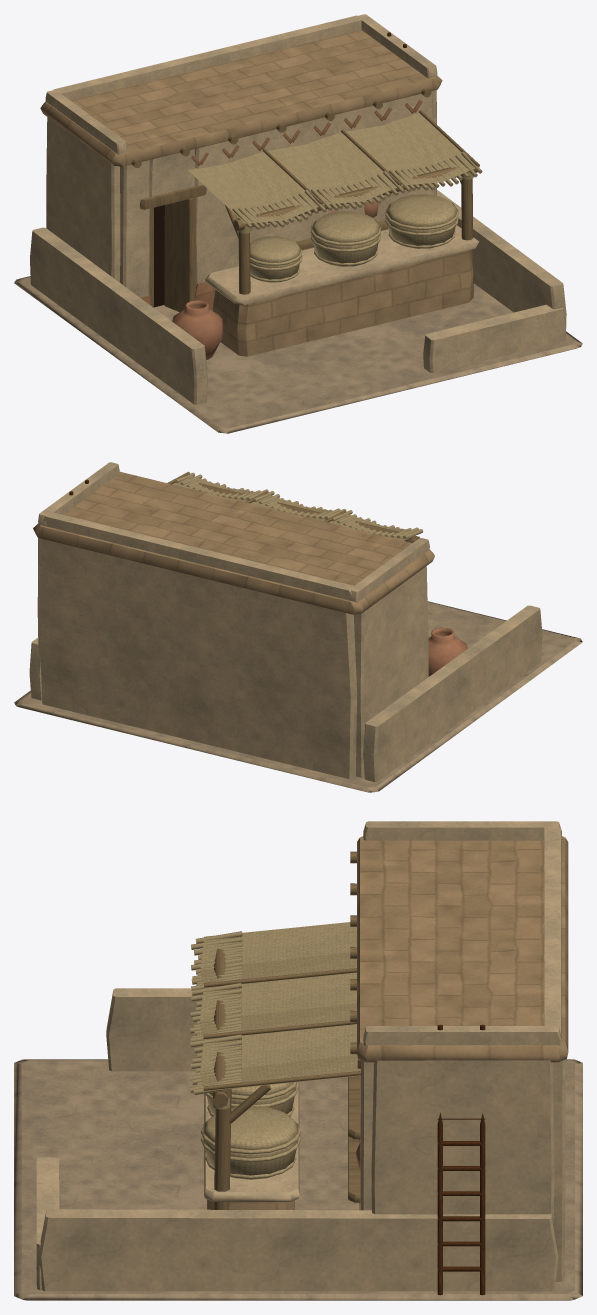
Rendered from depot.glb.
3 views of the same model, one above another, from view 1: azimuth 30°, elevation 25°; view 2: azimuth 150°, elevation 25°; view 3: azimuth 270°, elevation 25° (orthographic). The views are drawn at different scales.
Visible parts, largest first — view 1: original-depot-warm-clay-plaster, original-depot-game-raw-brick-facing, original-depot-reed-mat, original-depot-alluvial-earth, original-depot-worn-timber, original-depot-fired-pottery, original-depot-game-fired-brick-facing, original-depot-game-door-shadow; view 2: original-depot-warm-clay-plaster, original-depot-game-raw-brick-facing, original-depot-alluvial-earth, original-depot-reed-mat, original-depot-fired-pottery, original-depot-worn-timber; view 3: original-depot-warm-clay-plaster, original-depot-alluvial-earth, original-depot-game-raw-brick-facing, original-depot-reed-mat, original-depot-worn-timber, roof-access-depot.
Boxes of the visible parts, x1,y1,x2,y2 form: original-depot-warm-clay-plaster: [30, 14, 566, 404]; original-depot-game-raw-brick-facing: [40, 30, 473, 356]; original-depot-reed-mat: [188, 113, 482, 282]; original-depot-alluvial-earth: [14, 276, 582, 433]; original-depot-worn-timber: [131, 87, 479, 312]; original-depot-fired-pottery: [172, 199, 378, 359]; original-depot-game-fired-brick-facing: [140, 100, 422, 309]; original-depot-game-door-shadow: [154, 205, 164, 307]; original-depot-warm-clay-plaster: [29, 462, 542, 782]; original-depot-game-raw-brick-facing: [33, 471, 434, 614]; original-depot-alluvial-earth: [14, 601, 582, 792]; original-depot-reed-mat: [172, 472, 423, 540]; original-depot-fired-pottery: [428, 627, 467, 676]; original-depot-worn-timber: [167, 471, 419, 542]; original-depot-warm-clay-plaster: [36, 821, 565, 1291]; original-depot-alluvial-earth: [14, 1059, 582, 1300]; original-depot-game-raw-brick-facing: [207, 836, 568, 1209]; original-depot-reed-mat: [190, 922, 360, 1179]; original-depot-worn-timber: [203, 851, 360, 1209]; roof-access-depot: [437, 1024, 485, 1295].
Size of the model in its own units: 5.37 by 2.72 by 5.37.
9 materials, 8 textured.
